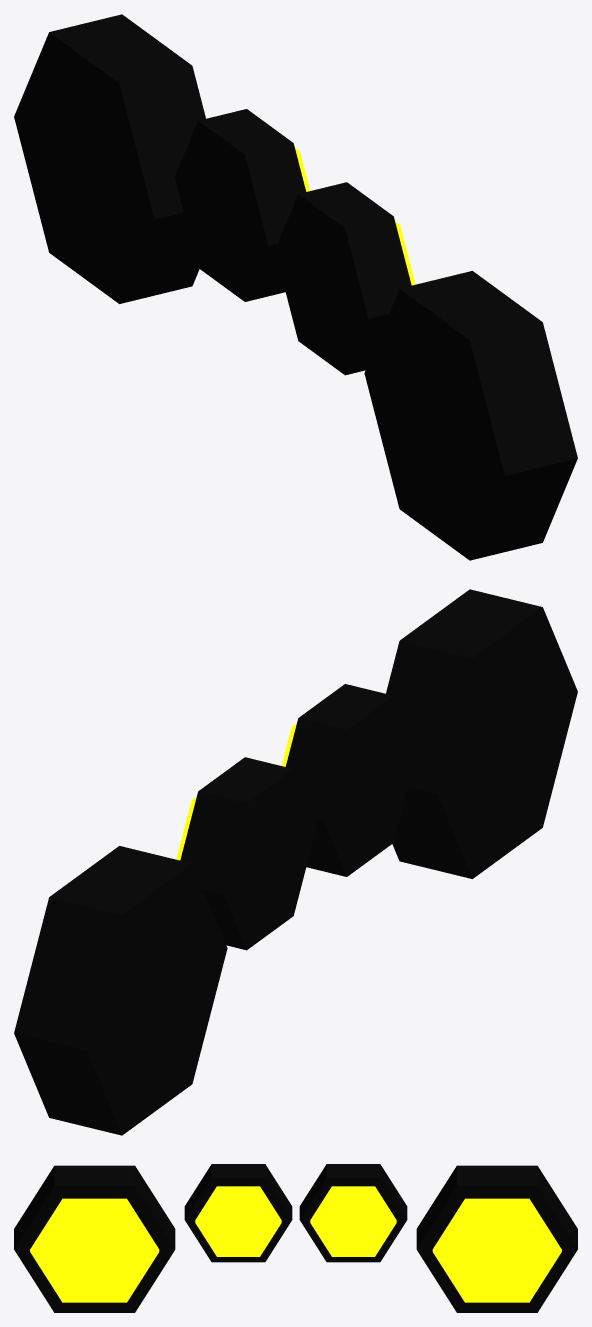
The model's file is CarLights.fbx.
3 renders of one model, top to bottom at view 1: azimuth 30°, elevation 25°; view 2: azimuth 150°, elevation 25°; view 3: azimuth 270°, elevation 25°, orthographic. The views are drawn at different scales.
Parts seen in each view (by area): view 1: Cases; view 2: Cases; view 3: Lights, Cases.
Boxes of the visible parts, x1,y1,x2,y2 form: Cases: [14, 14, 577, 560]; Cases: [14, 589, 577, 1135]; Lights: [30, 1186, 561, 1302]; Cases: [14, 1164, 577, 1312].
Bounding box in the file's own units: 18.87 × 50.53 × 196.
